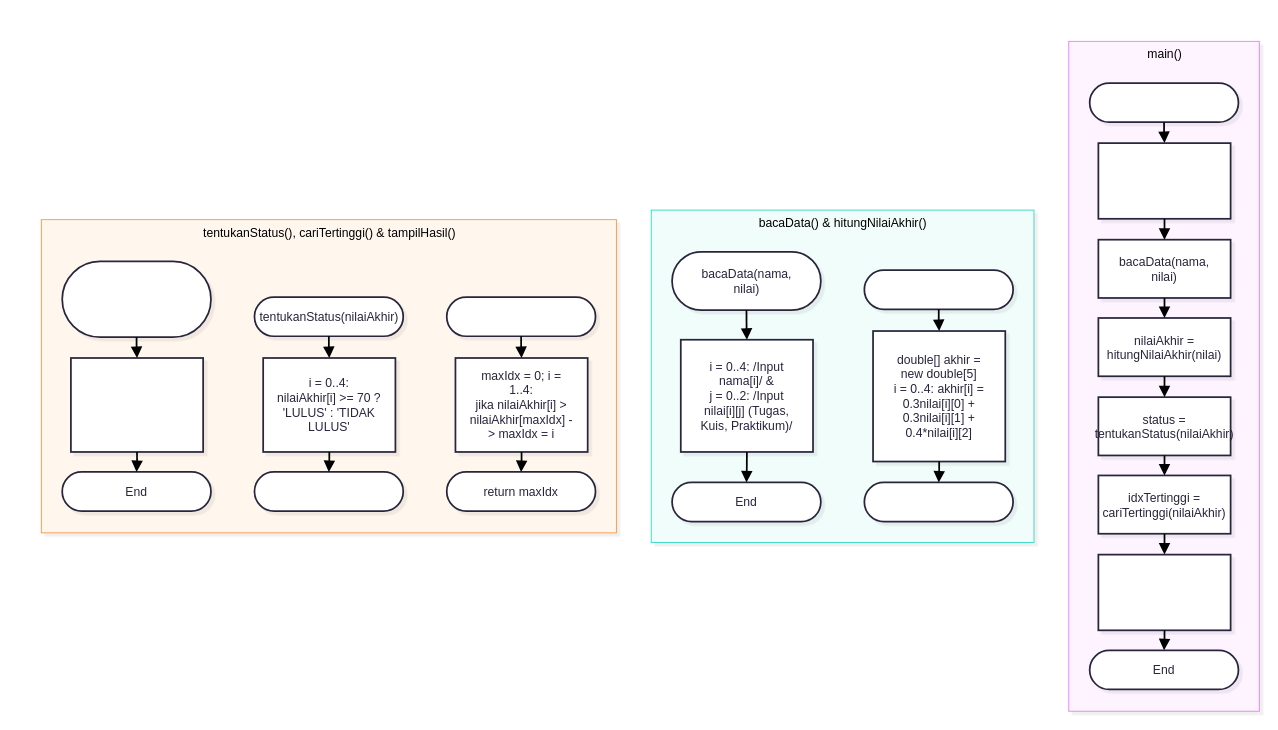
Some shapes in this 1278 by 730 pixel diagram are drawn without their labels. The centre of each missing label's shape, as x and y in pixels:
/Tampilkan tabel nama, nilai akhir, status & juara tertinggi/: the point at 138,406
cariTertinggi(nilaiAkhir): the point at 522,318
hitungNilaiAkhir(nilai): the point at 940,291
nama[5], nilai[5][3], nilaiAkhir[5], status[5]: the point at 1166,182
return akhir: the point at 940,503
return status: the point at 330,493
Start: the point at 1165,104
tampilHasil(nama, akhir, status, maxIdx): the point at 138,300
tampilHasil(nama, nilaiAkhir, status, idxTertinggi): the point at 1166,593
